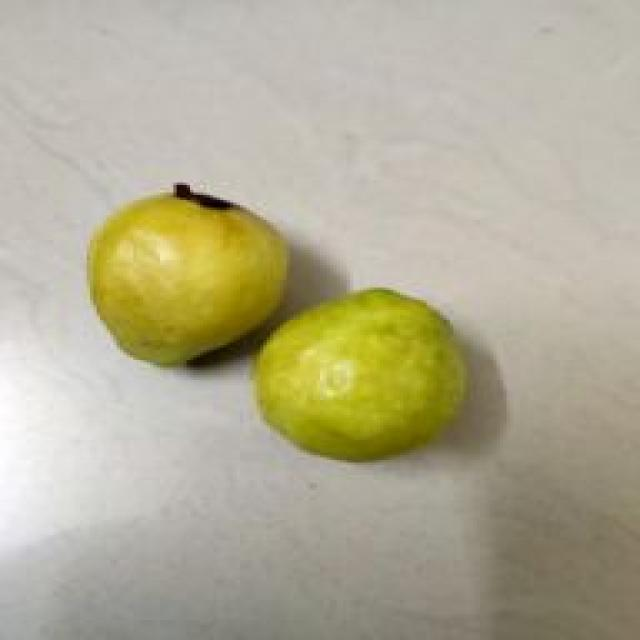Good_Guava: (250, 288, 470, 465), (87, 185, 290, 370)
